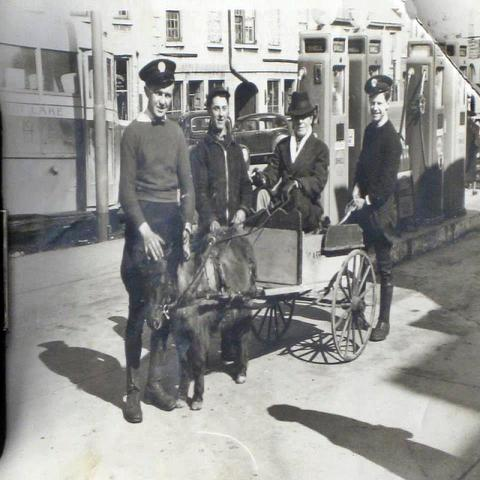bus: (1, 3, 140, 213)
car: (232, 108, 295, 169), (177, 110, 232, 154)
